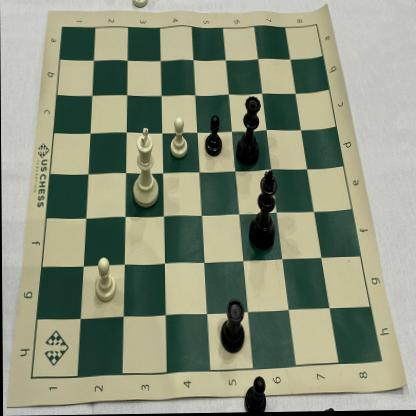black-king: (246, 169, 278, 253)
black-pawn: (201, 112, 225, 159)
black-queen: (233, 93, 264, 173)
black-rook: (218, 296, 247, 356)
white-king: (126, 126, 161, 212)
white-pawn: (90, 255, 120, 304), (166, 116, 190, 161)
